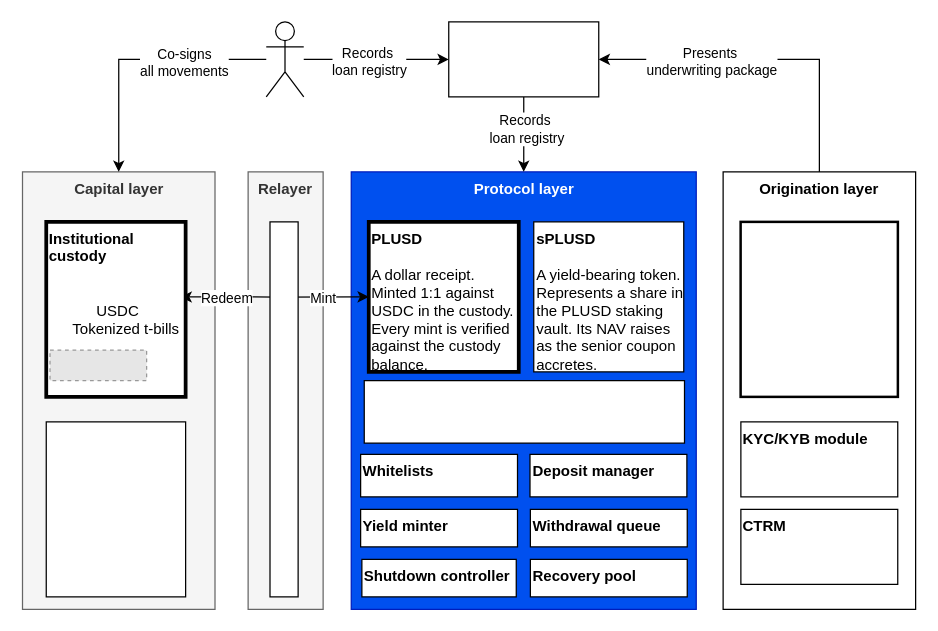
The diagram is 938 pixels wide and 631 high, and some of its shapes have lost their labels. Grey dashed boxes stand in for pictures. The centre of each missing label's shape, as x and y in pixels:
Fiduciary Trustee: pixel 284 59
Hardware circuit breaker: pixel 283 409
Loan Originators: pixel 818 309
Loan registry: pixel 523 411
Risk committee: pixel 523 59
USD account: pixel 115 509
